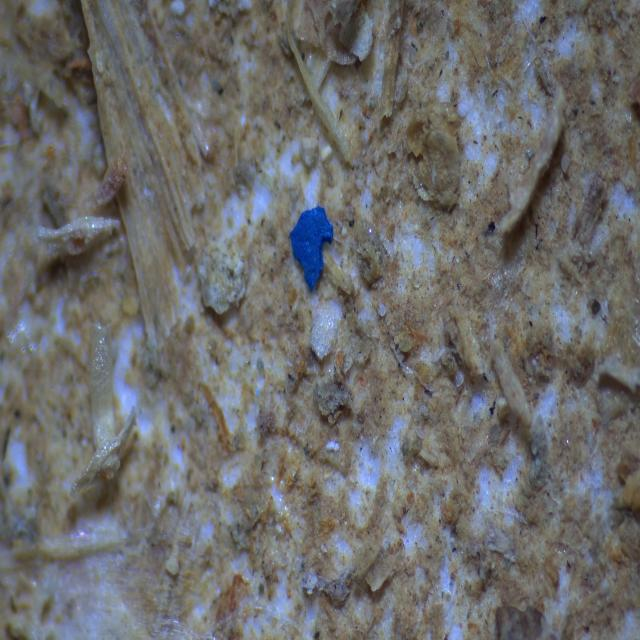microplastic: (285, 204, 343, 292)
